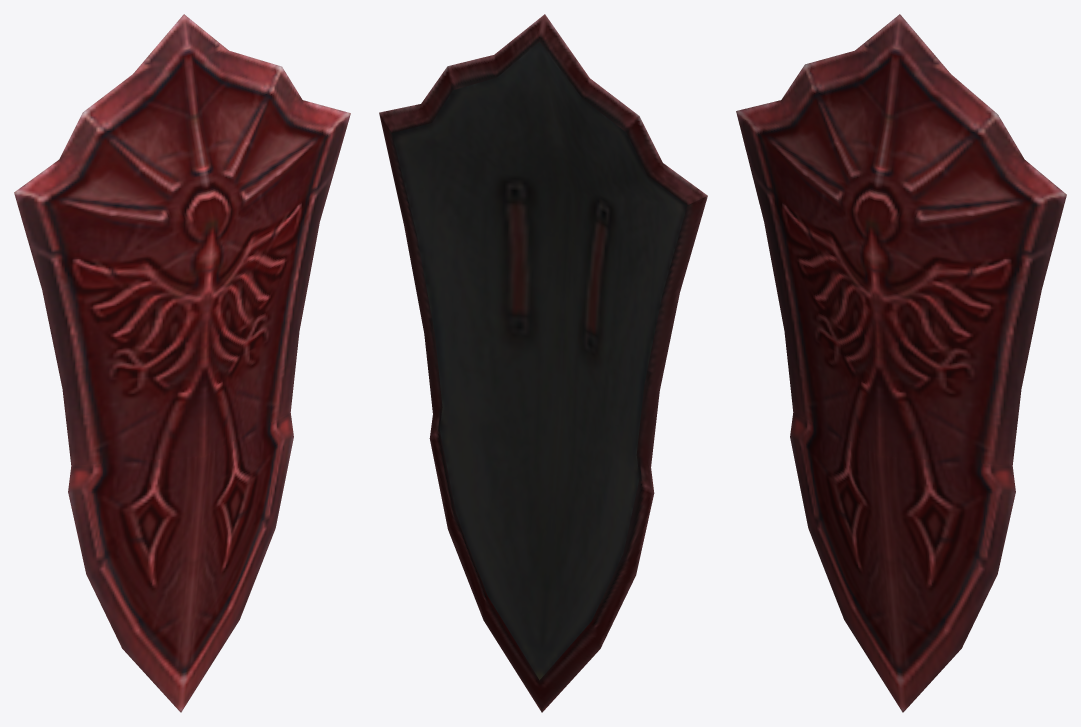
Rendered from Shield14.FBX.
The picture shows the model from 3 angles, left to right: view 1: azimuth 30°, elevation 25°; view 2: azimuth 150°, elevation 25°; view 3: azimuth 330°, elevation 25°; orthographic projection.
Parts seen in each view (by area): view 1: Shield14; view 2: Shield14; view 3: Shield14.
Part boxes in pixels (x1,y1,x2,y2): Shield14: (14,14,350,712); Shield14: (379,14,707,712); Shield14: (736,14,1066,712).
Size of the model in its own units: 56.63 by 114 by 10.17.
